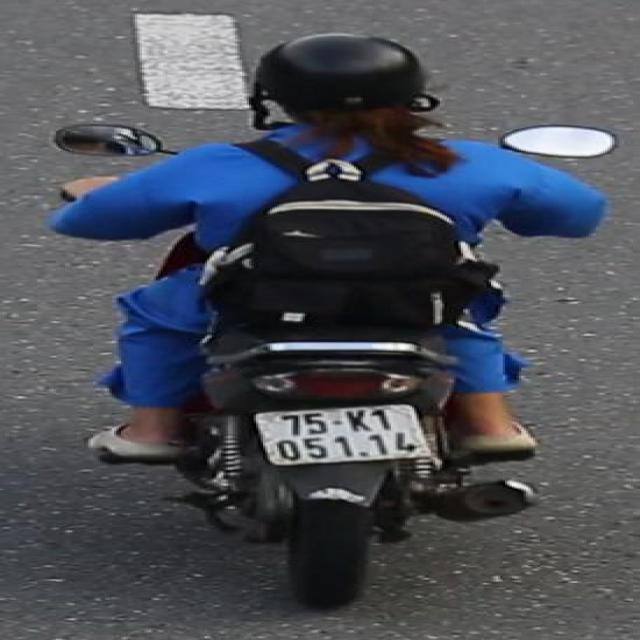LP: (244, 400, 433, 466)
helmet: (244, 25, 461, 153)
